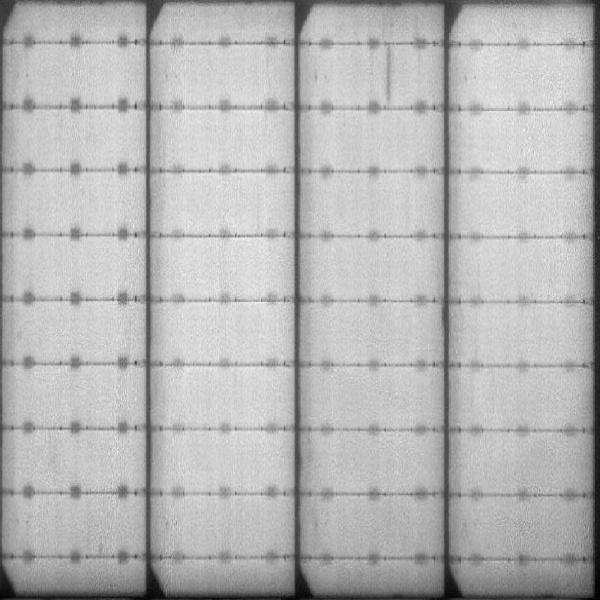scratch: (382, 39, 394, 103)
